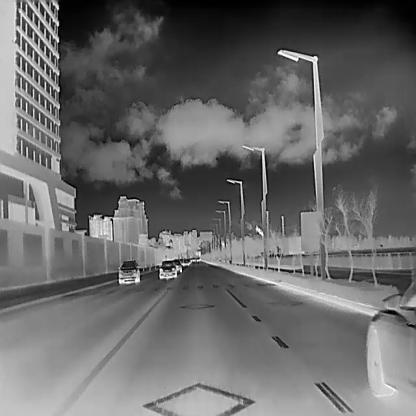car: (365, 278, 415, 401), (118, 258, 139, 283), (159, 259, 176, 279), (172, 258, 182, 272), (181, 258, 190, 266), (195, 255, 200, 261), (191, 255, 195, 261)
